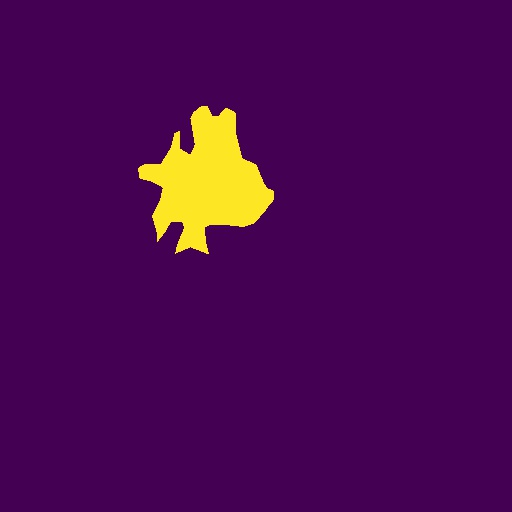Gliomia_tumour: (138, 106, 274, 254)
